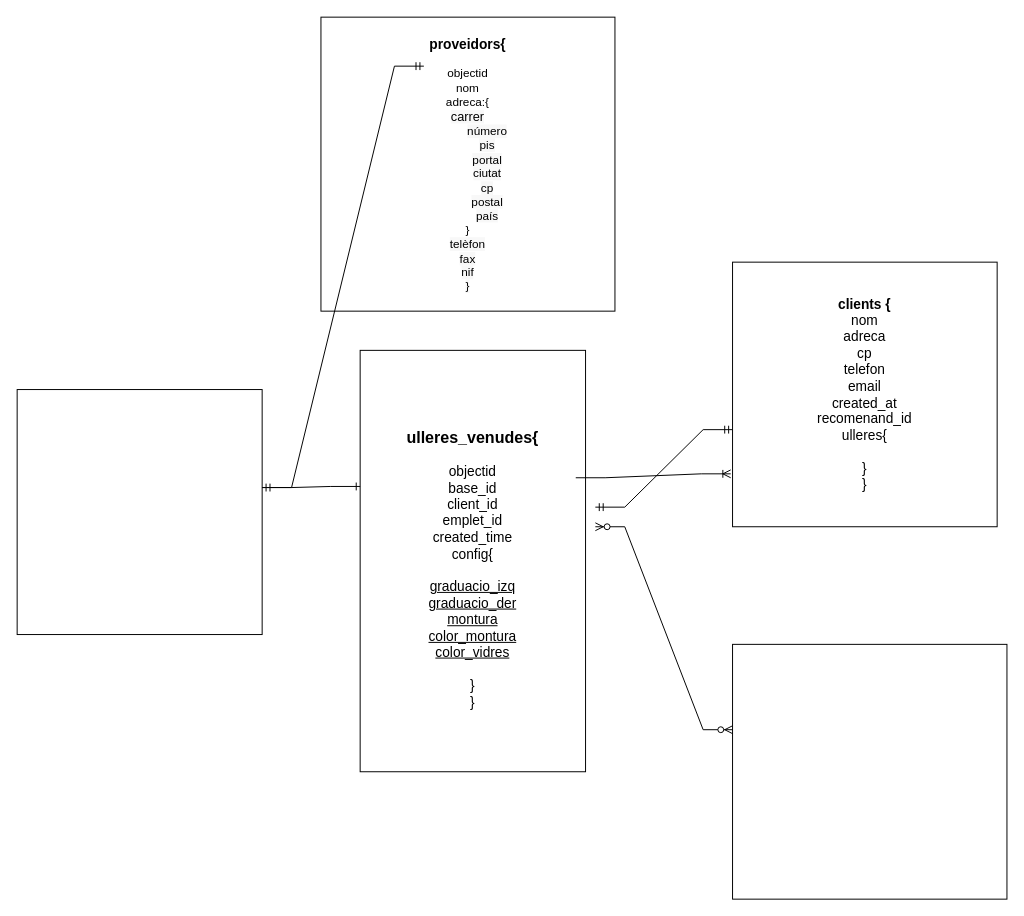
This 1024x916 diagram has some shape labels left out. Here are the shapes that lost their labels. From the top down, the box of each, then its label:
(16, 389, 262, 635): ulleresbase { objectid id_proveidor marca montura preu }
(732, 643, 1007, 899): empleat { objectid nom telefon email nif }
